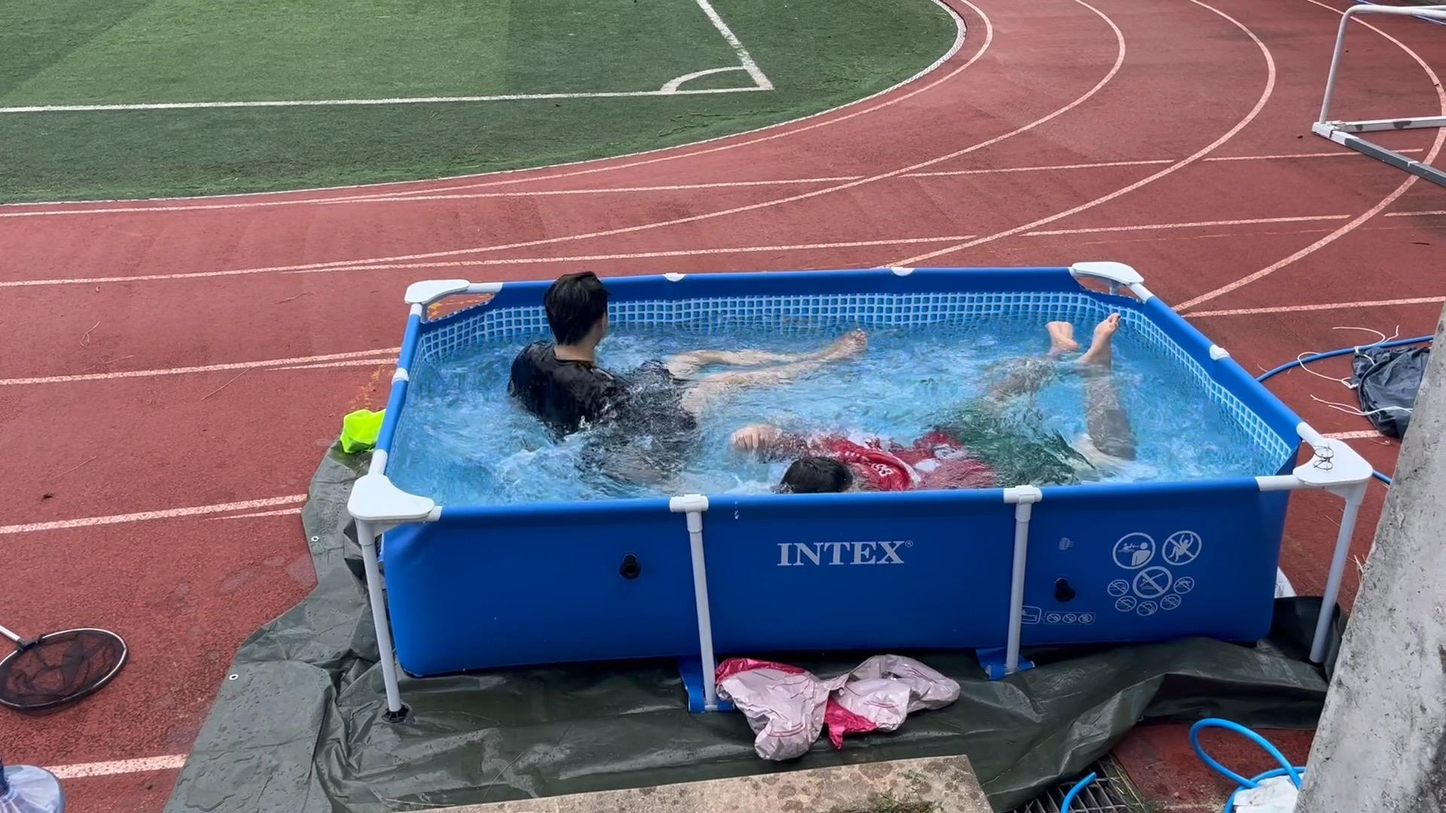Drowning: (735, 310, 1144, 512)
